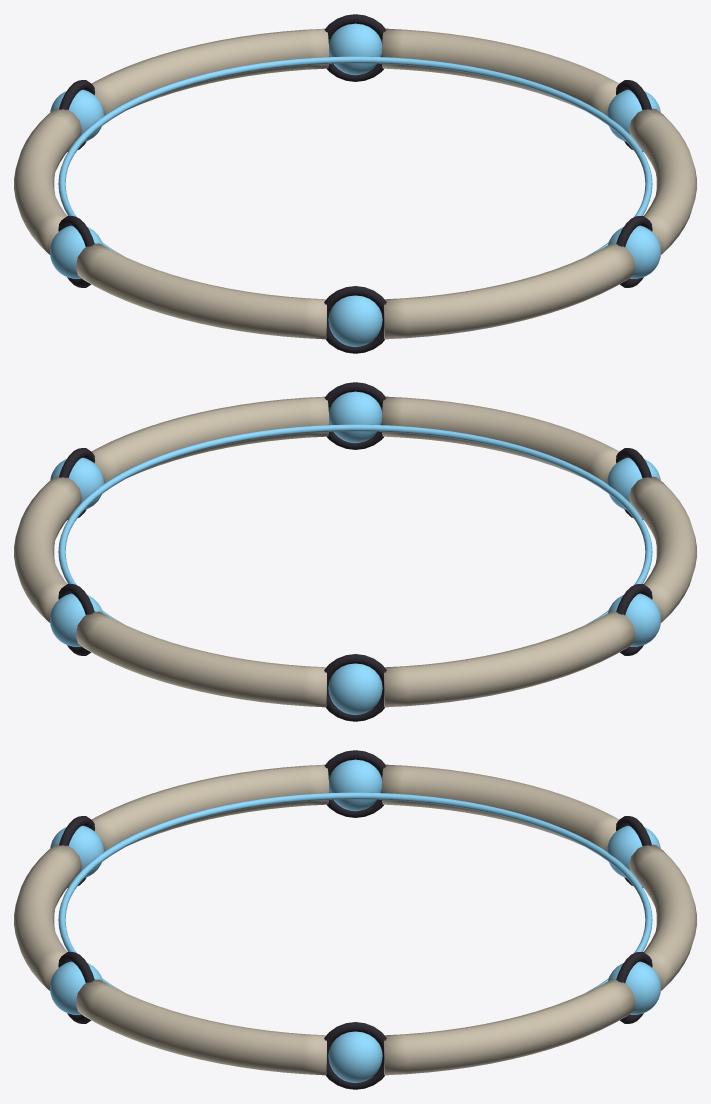
The model's file is fokusring.obj.
3 views of the same model, one above another, from view 1: azimuth 30°, elevation 25°; view 2: azimuth 150°, elevation 25°; view 3: azimuth 270°, elevation 25° (orthographic).
Parts seen in each view (by area): view 1: Fokusring; view 2: Fokusring; view 3: Fokusring.
Boxes of the visible parts, x1,y1,x2,y2 form: Fokusring: (14,14,696,353); Fokusring: (14,382,696,721); Fokusring: (14,750,696,1089).
Bounding box in the file's own units: 34.7 × 3.7 × 33.98.
